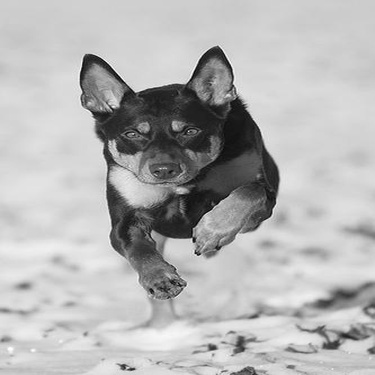dog: (56, 36, 293, 346)
